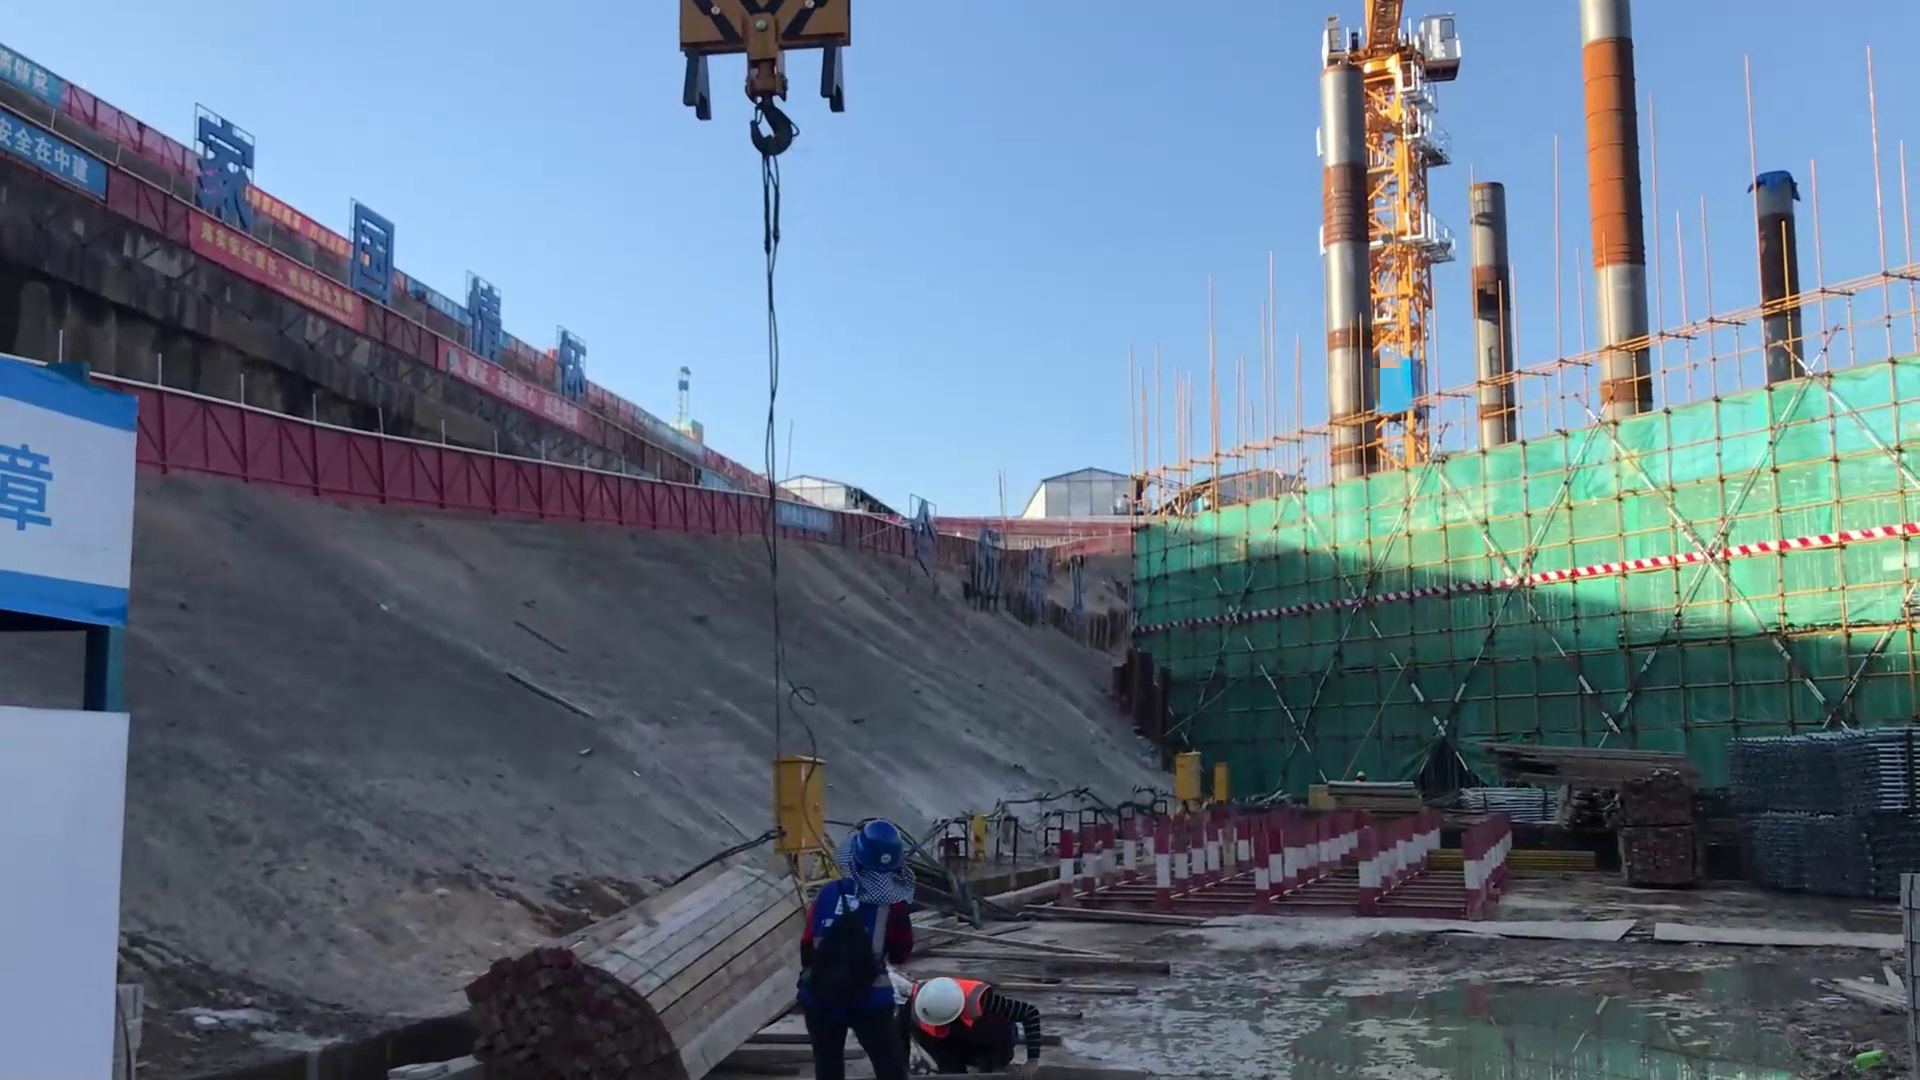ebox: (749, 742, 841, 867), (1176, 750, 1202, 799), (1211, 757, 1229, 804)
fence: (136, 367, 548, 559), (543, 457, 793, 542)
helmet: (849, 806, 913, 878), (915, 962, 968, 1032)
hook: (660, 1, 860, 123)
person: (794, 817, 918, 1080), (900, 972, 1047, 1080)
scaffold: (1711, 716, 1915, 827), (1743, 798, 1907, 919)
slogan: (166, 215, 371, 370)
wood: (460, 835, 786, 1072), (1469, 722, 1692, 796)
